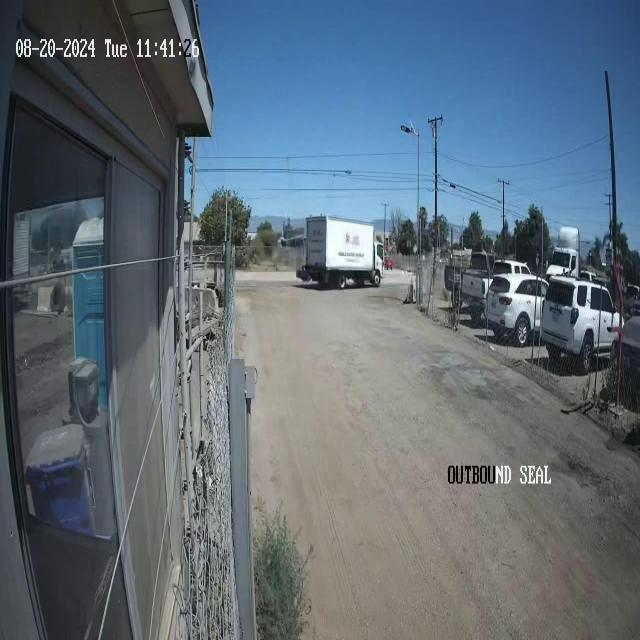TRUCK_OUT: (300, 214, 384, 289)
